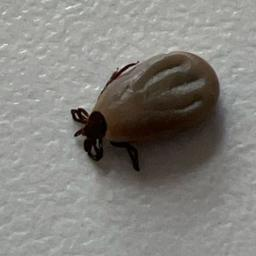Ixodes scapularis: (70, 46, 220, 171)
